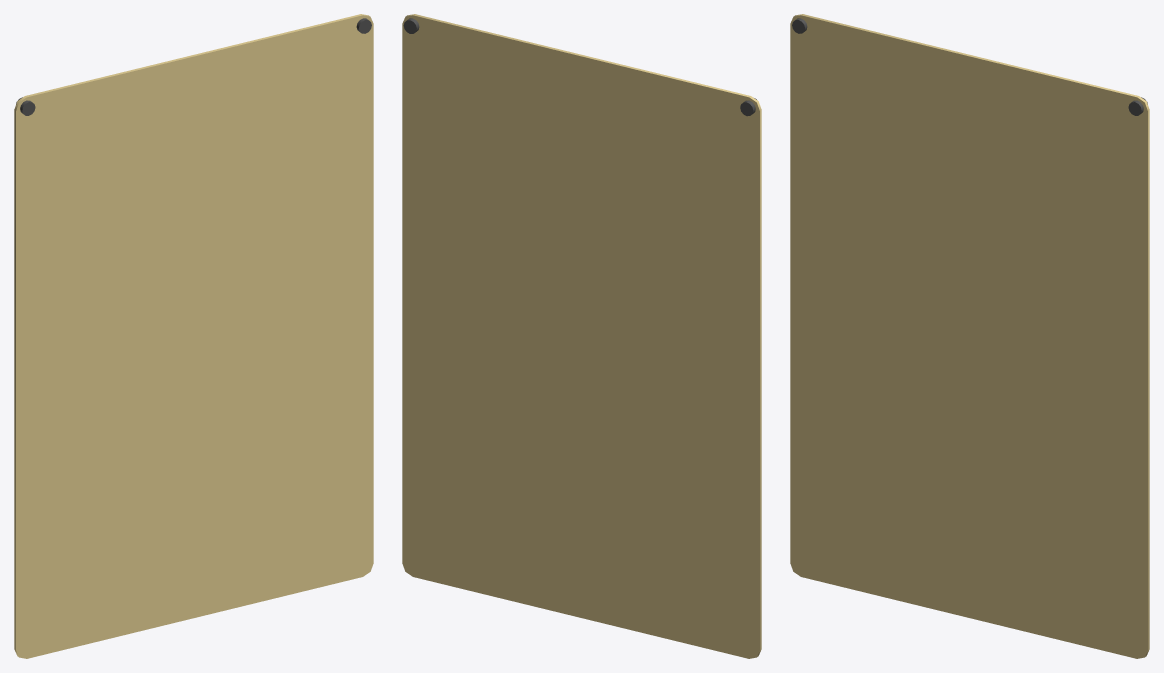
File: Poster.fbx
The picture shows the model from 3 angles, left to right: view 1: azimuth 30°, elevation 25°; view 2: azimuth 150°, elevation 25°; view 3: azimuth 330°, elevation 25°; orthographic projection.
Visible parts, largest first — view 1: Poster; view 2: Poster; view 3: Poster.
Boxes of the visible parts, x1,y1,x2,y2 form: Poster: (14, 14, 373, 658); Poster: (402, 14, 761, 658); Poster: (790, 14, 1149, 658).
Bounding box in the file's own units: 51.65 × 77.48 × 1.65.
